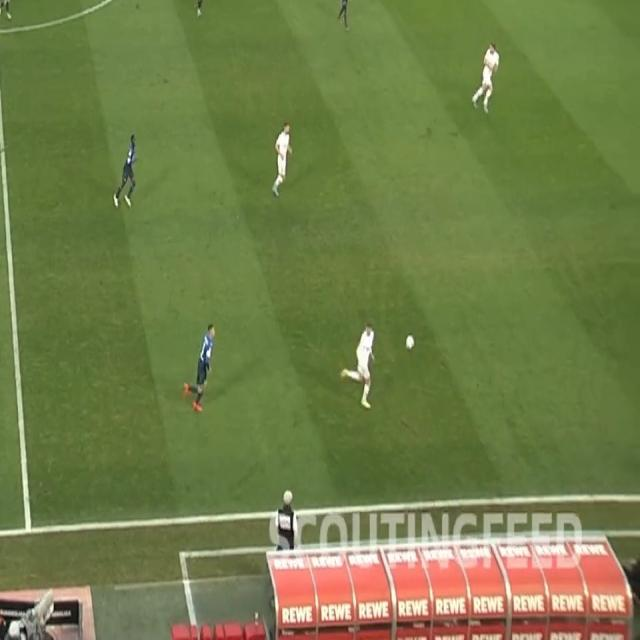ball: (405, 334, 416, 351)
